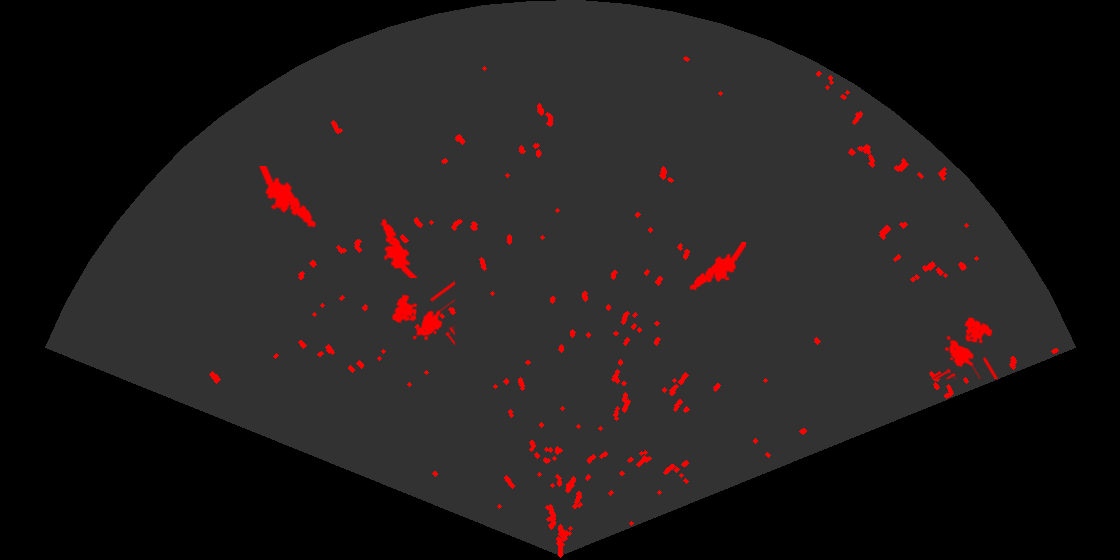cage: (390, 279, 455, 347), (932, 316, 1000, 379)
frogman: (258, 166, 318, 229), (688, 242, 746, 292), (379, 217, 419, 278)
